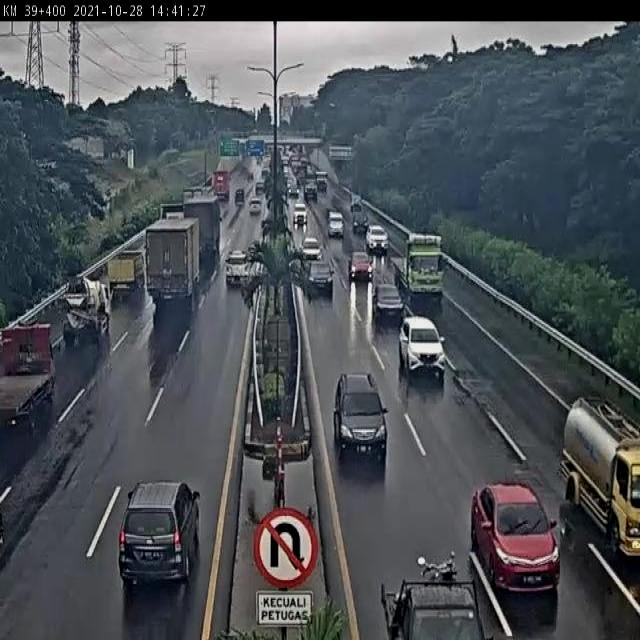Car: (471, 485, 562, 597), (117, 480, 200, 590), (332, 373, 388, 467), (399, 314, 446, 382), (372, 283, 405, 323), (305, 262, 335, 298), (225, 250, 250, 289), (364, 223, 389, 255), (348, 253, 373, 284), (298, 237, 322, 266), (327, 210, 346, 240), (352, 208, 370, 236), (293, 202, 308, 228), (248, 198, 263, 215), (254, 180, 266, 196), (234, 188, 245, 205), (288, 187, 300, 198)
Truck: (562, 392, 640, 562), (379, 549, 493, 640), (0, 323, 63, 434), (145, 213, 203, 300), (58, 274, 112, 344), (390, 234, 447, 296), (183, 189, 224, 272), (105, 249, 143, 302), (212, 168, 232, 203), (302, 171, 320, 205), (314, 172, 328, 195)
